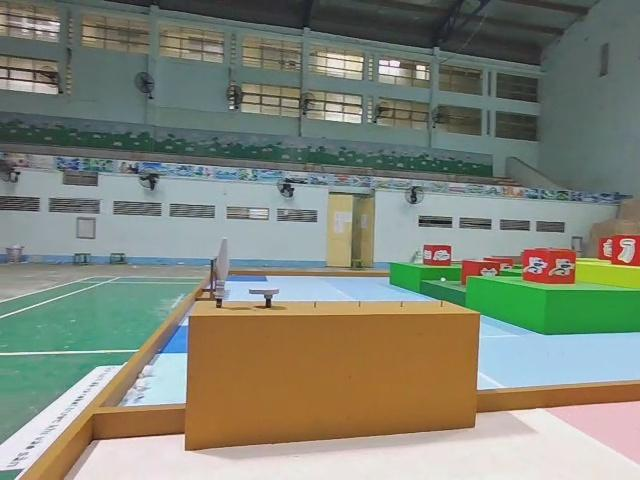Hand: (249, 286, 280, 308)
Sph: (212, 233, 233, 309)
